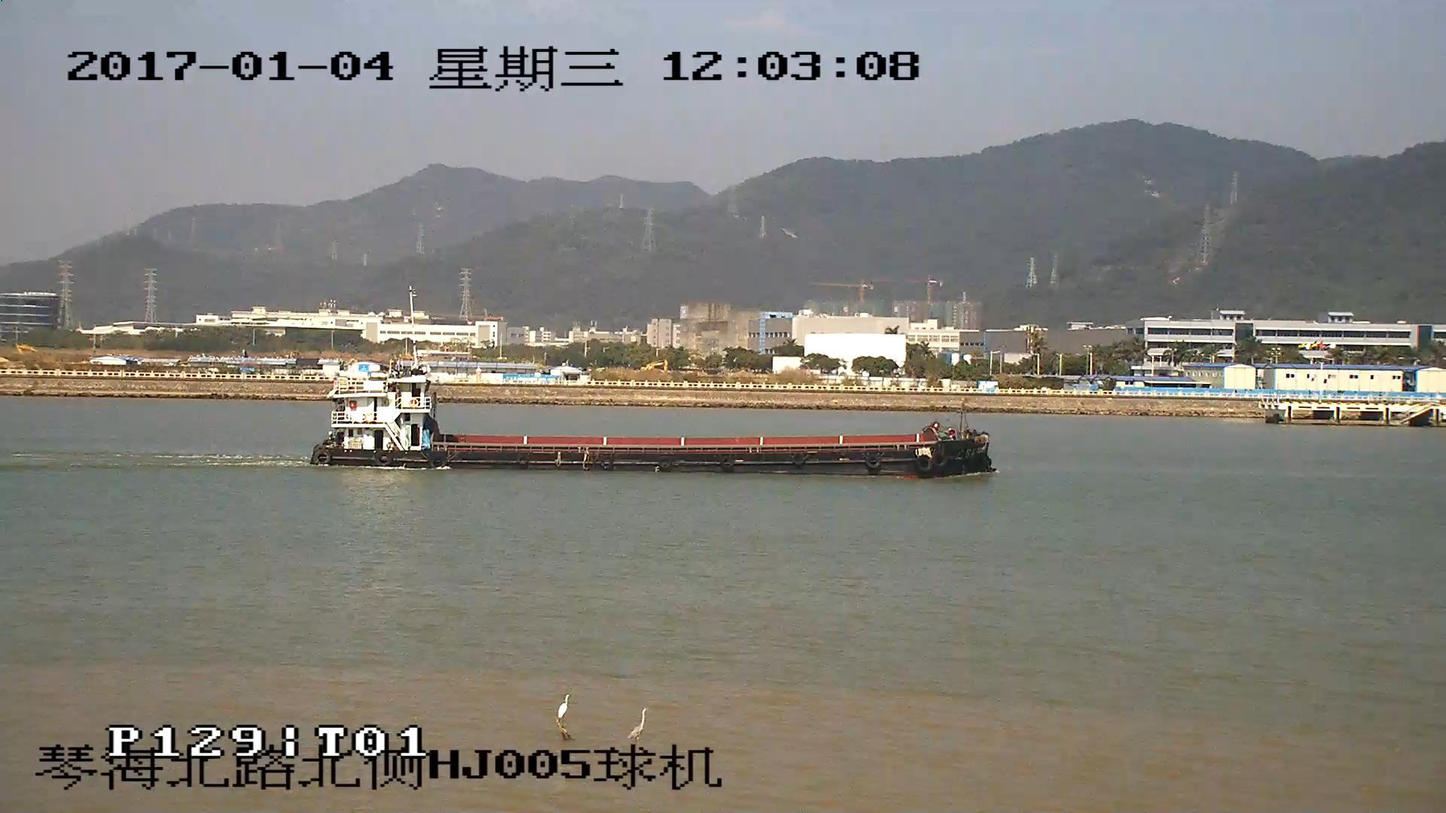general cargo ship: (307, 375, 993, 479)
